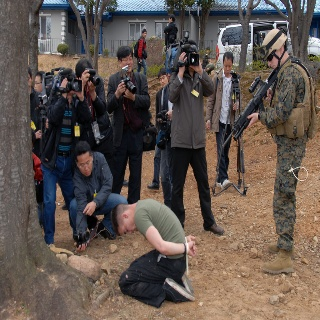rifle: (219, 62, 277, 150)
